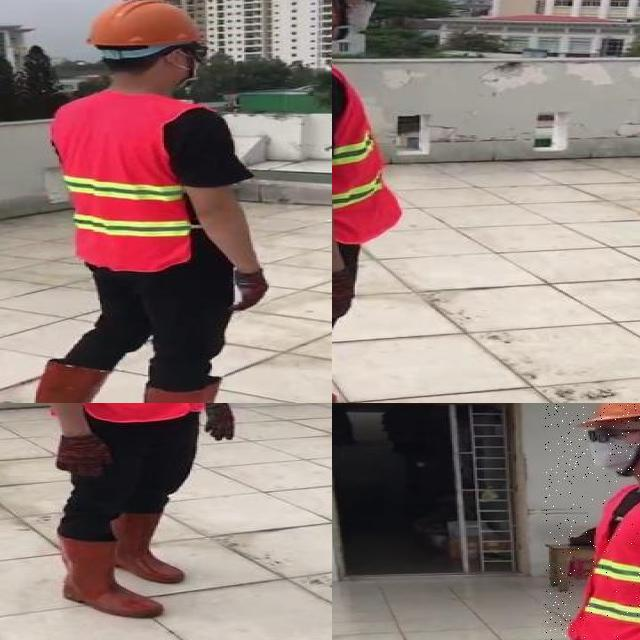boots: (57, 530, 163, 617), (112, 512, 186, 584), (16, 361, 126, 403), (146, 378, 267, 403)
face_mask: (332, 0, 381, 37)
hand_glove: (55, 437, 113, 475), (232, 269, 270, 310), (204, 403, 238, 441), (332, 268, 353, 323)
head_helmet: (80, 0, 213, 49)
person: (0, 0, 295, 403), (11, 403, 238, 622), (332, 0, 422, 403), (545, 403, 640, 640)
vest: (54, 93, 196, 272), (332, 37, 401, 250), (574, 481, 640, 640)
